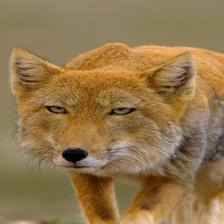fox: (6, 38, 223, 224)
